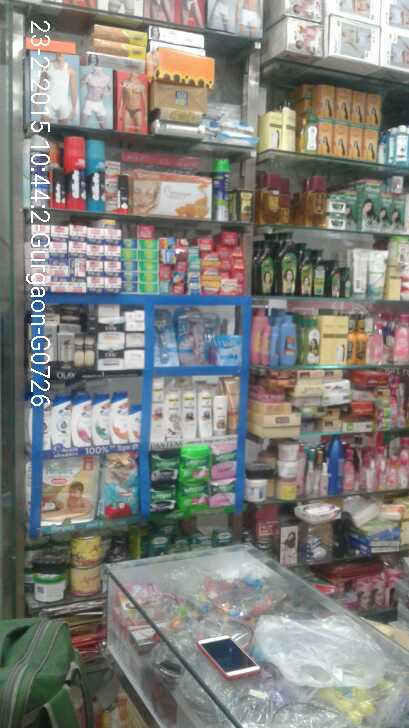venus: (176, 308, 214, 364), (150, 308, 176, 363), (214, 335, 244, 364)
